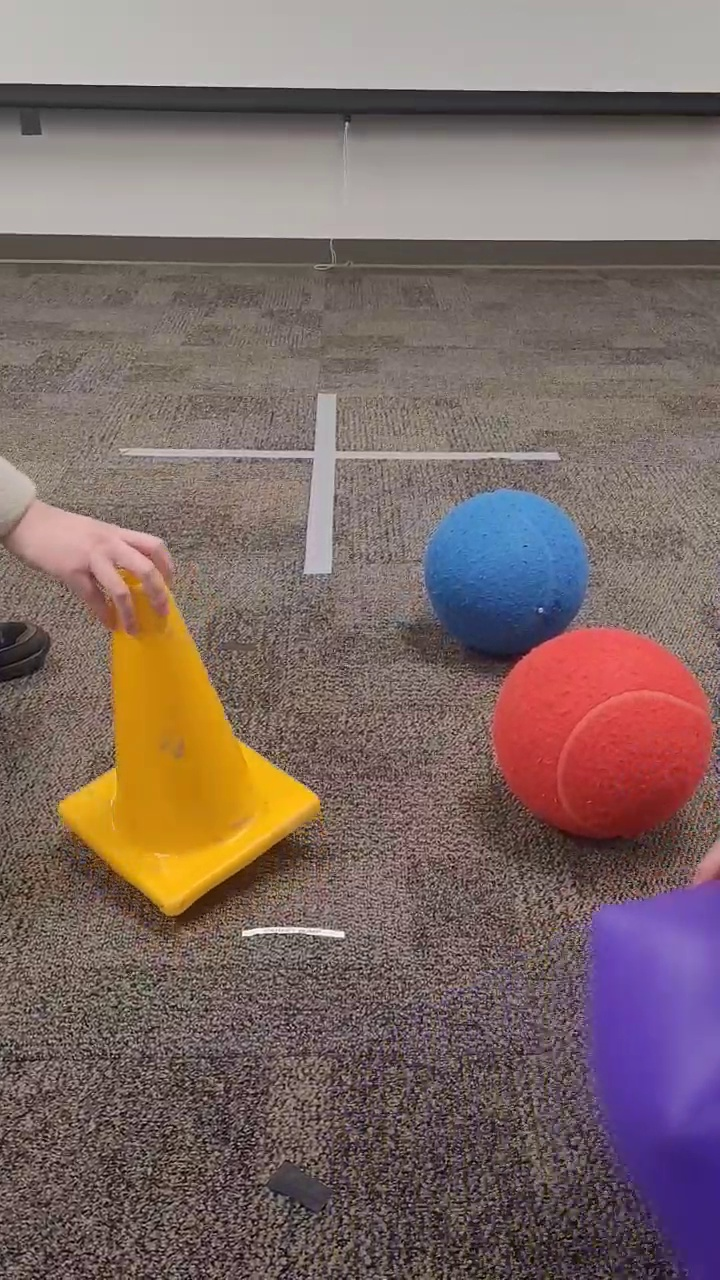ball: (486, 618, 715, 845), (420, 481, 593, 660)
cone: (55, 561, 326, 923)
cube: (586, 876, 719, 1280)
foot: (1, 614, 56, 688)
hand: (1, 447, 179, 633), (689, 836, 720, 887)
